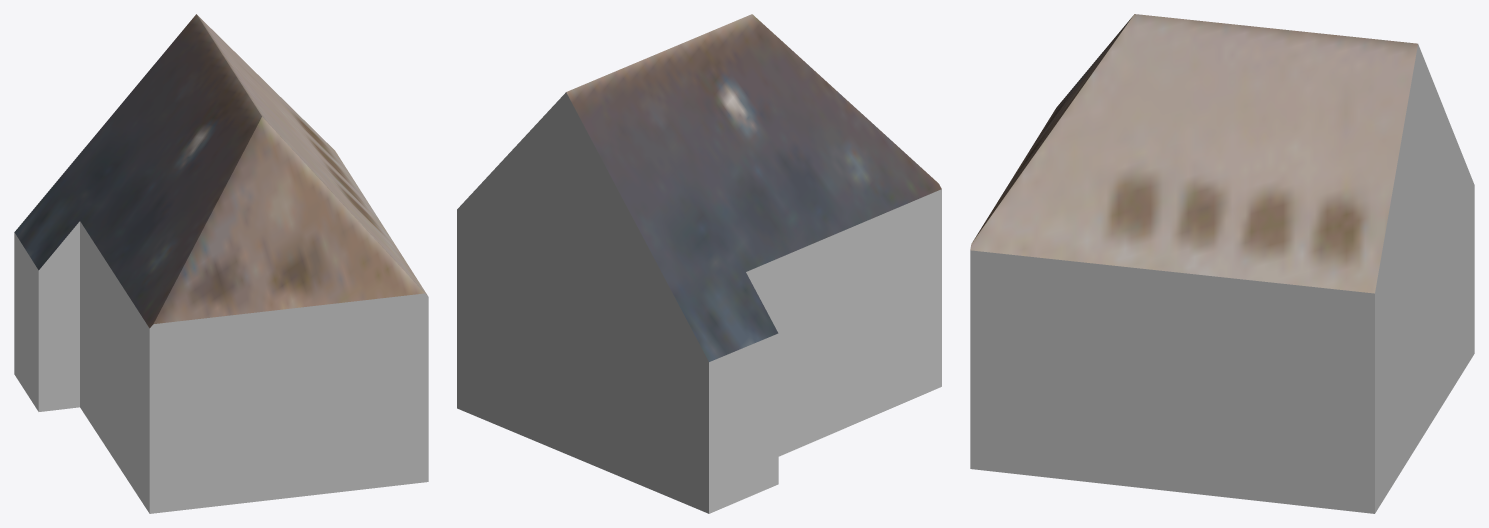
Rendered from DEBW_0010007TxcI.gltf.
The picture shows the model from 3 angles, left to right: view 1: azimuth 30°, elevation 25°; view 2: azimuth 150°, elevation 25°; view 3: azimuth 270°, elevation 25°; orthographic projection. The views are drawn at different scales.
Visible parts, largest first — view 1: Z_UP; view 2: Z_UP; view 3: Z_UP.
Part boxes in pixels (x1,y1,x2,y2): Z_UP: (14,14,428,513); Z_UP: (457,14,941,513); Z_UP: (970,14,1474,513).
Bounding box in the file's own units: 13.81 × 14 × 15.97.
Materials: 2 (1 with a texture image).
